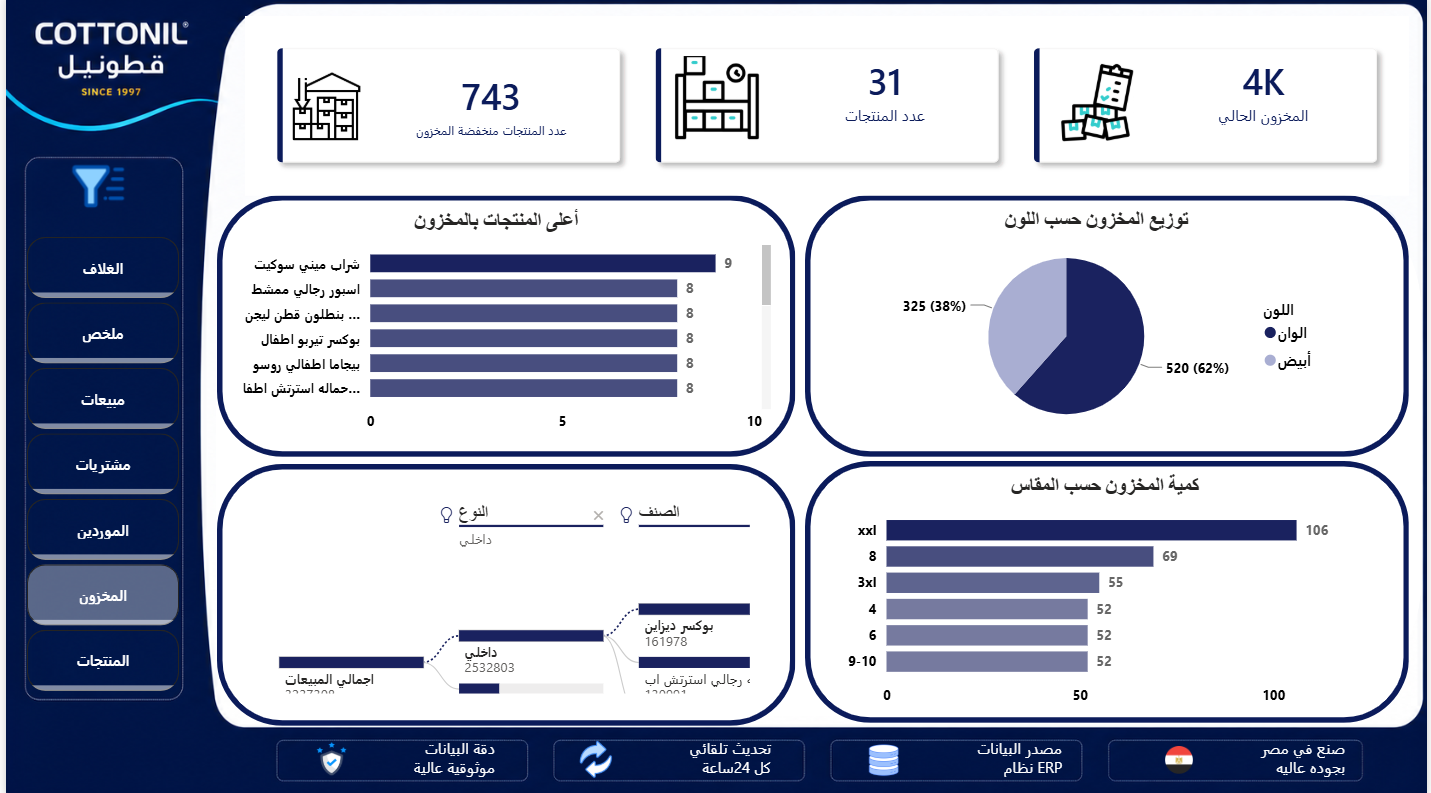

The page's visual inventory and layout, read from the dashboard file:
{"tool":"powerbi","page":{"name":"المخزون","canvas":[1280,720],"ordinal":5},"visuals":[{"type":"shape","box":[189.5,161.3,1086.5,486.8],"z":0},{"type":"shape","box":[190,178.5,521.4,235.9],"z":1000},{"type":"shape","box":[720.3,418.2,544.4,235.9],"z":2000},{"type":"shape","box":[720.3,178.5,544.4,235.9],"z":3000},{"type":"shape","box":[190,420.7,521.4,235.9],"z":4000},{"type":"cardVisual","fields":{"Data":["-measure.عدد المنتجات منخفضة المخزون","-measure.عدد المنتجات","-measure.المخزون الحالي"]},"box":[215.7,17,1049.2,161.8],"z":5000},{"type":"textbox","box":[358.6,663.2,90.8,46.4],"z":7000},{"type":"textbox","box":[603.6,663.2,90.8,46.4],"z":8000},{"type":"textbox","box":[865.6,663.2,90.8,46.4],"z":9000},{"type":"textbox","box":[1121.1,663.2,90.8,46.4],"z":10000},{"type":"image","box":[1043.5,674.5,27.4,24.6],"z":11000},{"type":"image","box":[274.4,671.7,38.8,30.3],"z":12000},{"type":"image","box":[509.9,669.8,43.5,35],"z":13000},{"type":"image","box":[752.1,673.6,76.6,29.3],"z":14000},{"type":"barChart","title":"أعلى المنتجات بالمخزون","fields":{"Category":["dim product->جرد البضاعه.الصنف"],"Y":["CountNonNull(dim product->جرد البضاعه.الرصيد)"]},"box":[189,191.3,504.8,209.4],"z":15000},{"type":"decompositionTreeVisual","title":"كمية المخزون حسب الفئة","fields":{"ExplainBy":["dim product->جرد البضاعه.النوع","dim product->جرد البضاعه.الصنف"],"Analyze":["-measure.اجمالي المبيعات"]},"box":[216.2,440.2,459.5,192.4],"z":16000},{"type":"pieChart","title":"توزيع المخزون حسب اللون","fields":{"Category":["dim product->جرد البضاعه.اللون "],"Y":["CountNonNull(dim product->جرد البضاعه.الرصيد)"]},"box":[773.2,189.8,418.5,211.9],"z":17000},{"type":"barChart","title":"كمية المخزون حسب المقاس","fields":{"Category":["dim product->جرد البضاعه.مقاس "],"Y":["CountNonNull(dim product->جرد البضاعه.الرصيد)"]},"box":[752.6,430.1,475.3,217.3],"z":18000},{"type":"pageNavigator","box":[19,216.5,137.7,409],"z":19000},{"type":"actionButton","box":[53.2,140.3,70.2,60],"z":20000}]}

Visuals, with their boxes on the page's 1280x720 design canvas (x1, y1, x2, y2). These are canvas units, not pixel positions in the 1431x793 screenshot, which may show the page scaled, cropped or inside an application window:
shape: rect(190, 161, 1276, 648)
shape: rect(190, 178, 711, 414)
shape: rect(720, 418, 1265, 654)
shape: rect(720, 178, 1265, 414)
shape: rect(190, 421, 711, 657)
cardVisual - -measure.عدد المنتجات منخفضة المخزون x -measure.عدد المنتجات: rect(216, 17, 1265, 179)
textbox: rect(359, 663, 449, 710)
textbox: rect(604, 663, 694, 710)
textbox: rect(866, 663, 956, 710)
textbox: rect(1121, 663, 1212, 710)
image: rect(1044, 674, 1071, 699)
image: rect(274, 672, 313, 702)
image: rect(510, 670, 553, 705)
image: rect(752, 674, 829, 703)
"أعلى المنتجات بالمخزون" barChart: rect(189, 191, 694, 401)
"كمية المخزون حسب الفئة" decompositionTreeVisual: rect(216, 440, 676, 633)
"توزيع المخزون حسب اللون" pieChart: rect(773, 190, 1192, 402)
"كمية المخزون حسب المقاس" barChart: rect(753, 430, 1228, 647)
pageNavigator: rect(19, 216, 157, 626)
actionButton: rect(53, 140, 123, 200)
